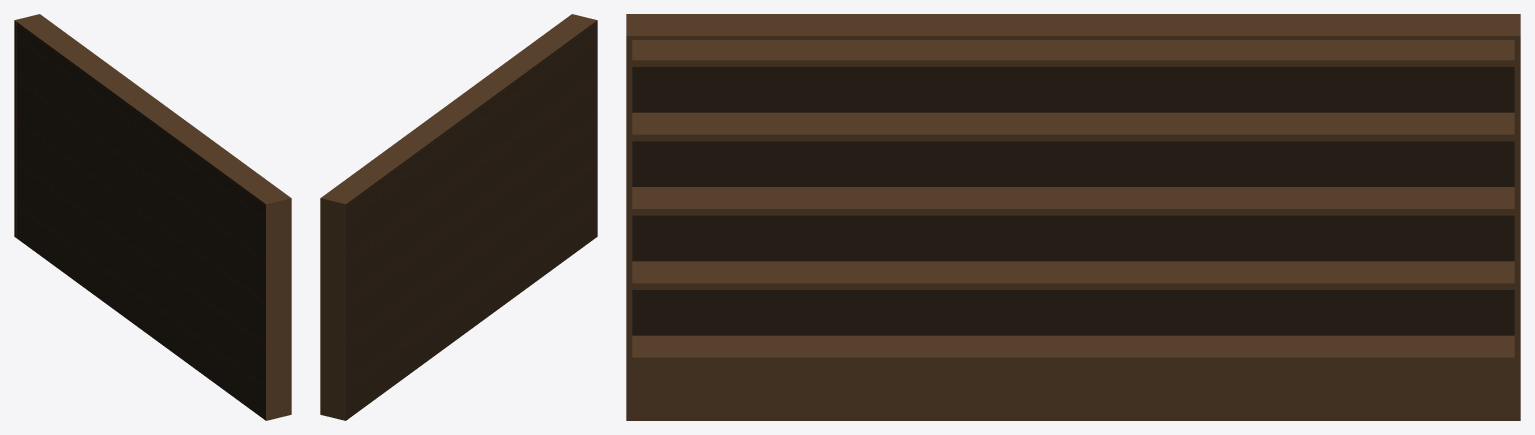
File: bookshelf.obj
3 renders of one model, left to right at view 1: azimuth 30°, elevation 25°; view 2: azimuth 150°, elevation 25°; view 3: azimuth 270°, elevation 25°, orthographic. The views are drawn at different scales.
Parts seen in each view (by area): view 1: case_back, case_top, case_sides; view 2: case_back, case_top, case_sides; view 3: case_back, boards, plinth, case_top, case_sides.
Boxes of the visible parts, left/top/right/bottom form: case_back: left=14, top=20, right=265, bottom=420; case_top: left=15, top=14, right=290, bottom=203; case_sides: left=14, top=14, right=291, bottom=420; case_back: left=346, top=20, right=597, bottom=420; case_top: left=320, top=15, right=595, bottom=204; case_sides: left=320, top=14, right=597, bottom=420; case_back: left=632, top=67, right=1514, bottom=335; boards: left=632, top=40, right=1514, bottom=364; plinth: left=632, top=364, right=1514, bottom=420; case_top: left=626, top=14, right=1520, bottom=39; case_sides: left=626, top=14, right=1520, bottom=420.
Size of the model in its own units: 0.35 by 2.85 by 6.
